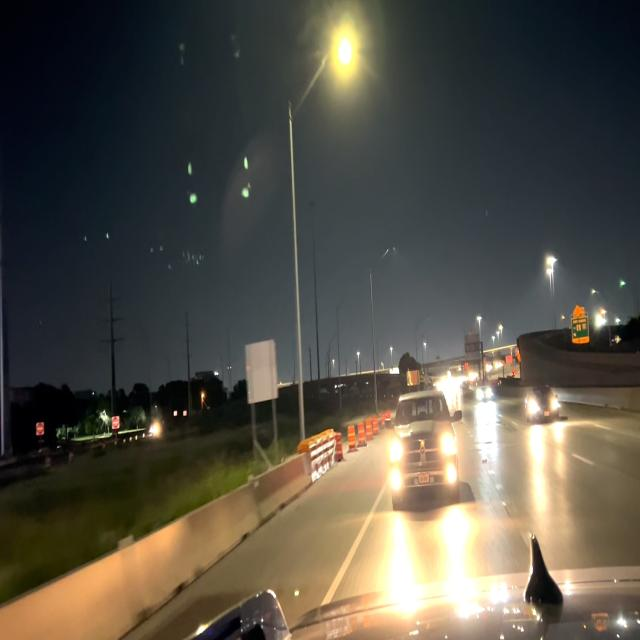back-of-sign: (248, 340, 278, 408)
